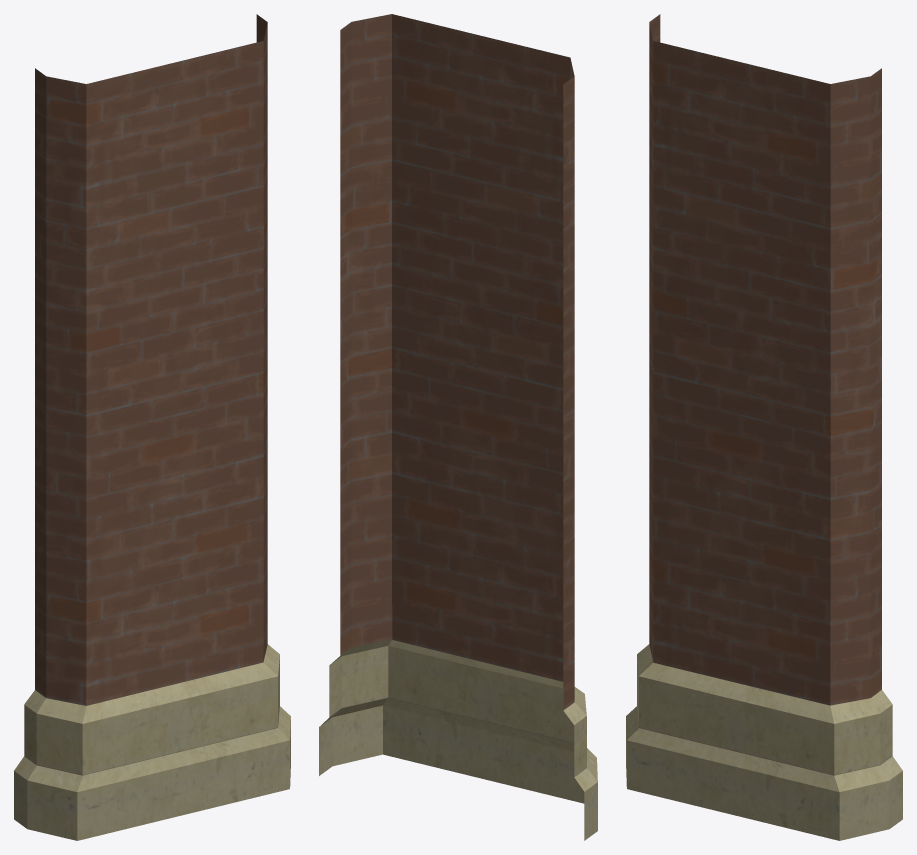
The model's file is brick_halfcolumn_bottom.glb.
The picture shows the model from 3 angles, left to right: view 1: azimuth 30°, elevation 25°; view 2: azimuth 150°, elevation 25°; view 3: azimuth 330°, elevation 25°; orthographic projection.
Parts seen in each view (by area): view 1: Brick_HalfColumn_Bottom; view 2: Brick_HalfColumn_Bottom; view 3: Brick_HalfColumn_Bottom.
Boxes of the visible parts, x1=… form: Brick_HalfColumn_Bottom: x1=14, y1=14, x2=290, y2=840; Brick_HalfColumn_Bottom: x1=319, y1=14, x2=597, y2=840; Brick_HalfColumn_Bottom: x1=626, y1=14, x2=902, y2=840.
Size of the model in its own units: 1.11 by 3 by 0.2763.
Materials: 2 (2 with a texture image).
